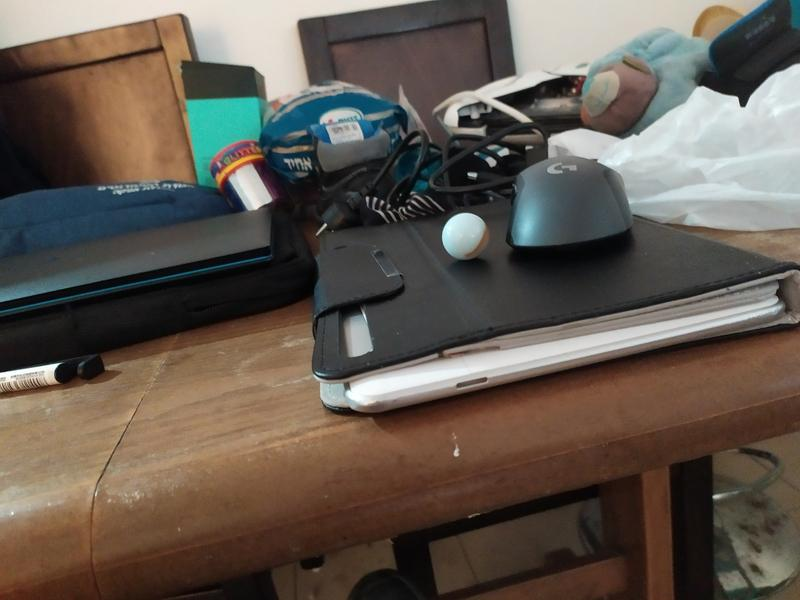Warning: (440, 211, 492, 262)
